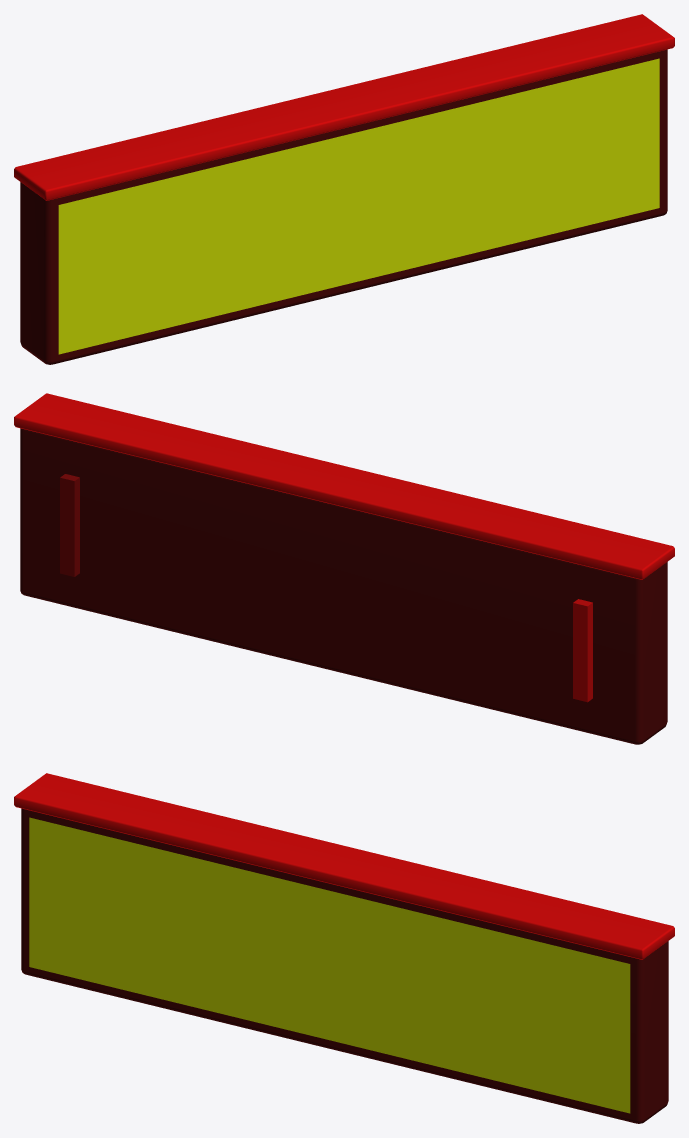
Rendered from sign_box_a.glb.
3 views of the same model, one above another, from view 1: azimuth 30°, elevation 25°; view 2: azimuth 150°, elevation 25°; view 3: azimuth 330°, elevation 25° (orthographic).
Visible parts, largest first — view 1: sign_box_a; view 2: sign_box_a; view 3: sign_box_a.
Part boxes in pixels (left/top/right/bottom): sign_box_a: left=14, top=14, right=674, bottom=364; sign_box_a: left=14, top=393, right=674, bottom=744; sign_box_a: left=14, top=773, right=674, bottom=1123.
Bounding box in the file's own units: 3.44 × 0.94 × 0.35.
